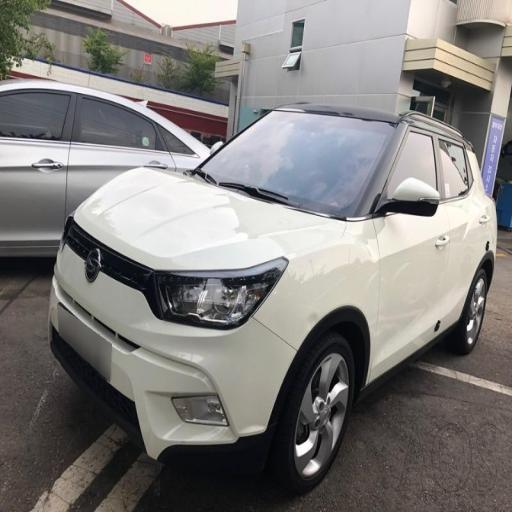dent: (124, 161, 250, 293)
